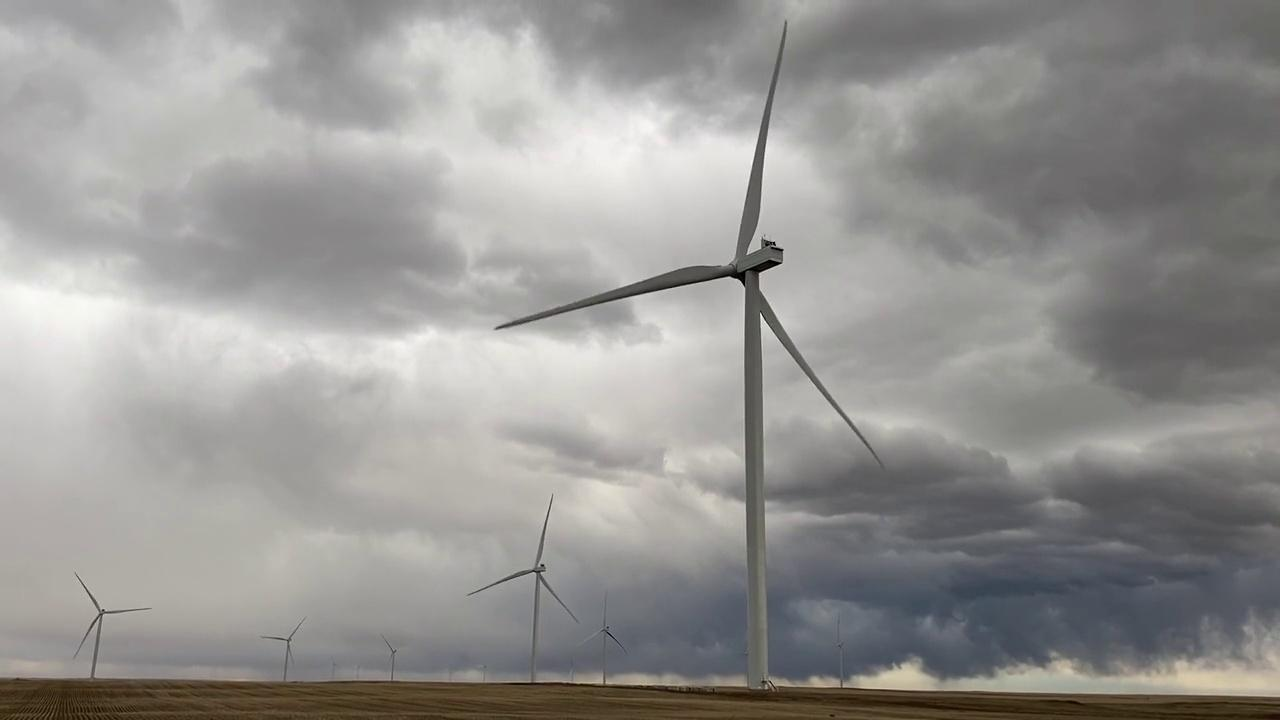turbine: (505, 3, 970, 693), (455, 499, 585, 692), (43, 556, 156, 674), (573, 587, 638, 684), (253, 613, 314, 681), (815, 616, 863, 690), (367, 625, 417, 681), (429, 654, 466, 682), (558, 646, 585, 684), (317, 650, 345, 679), (345, 651, 370, 681)
